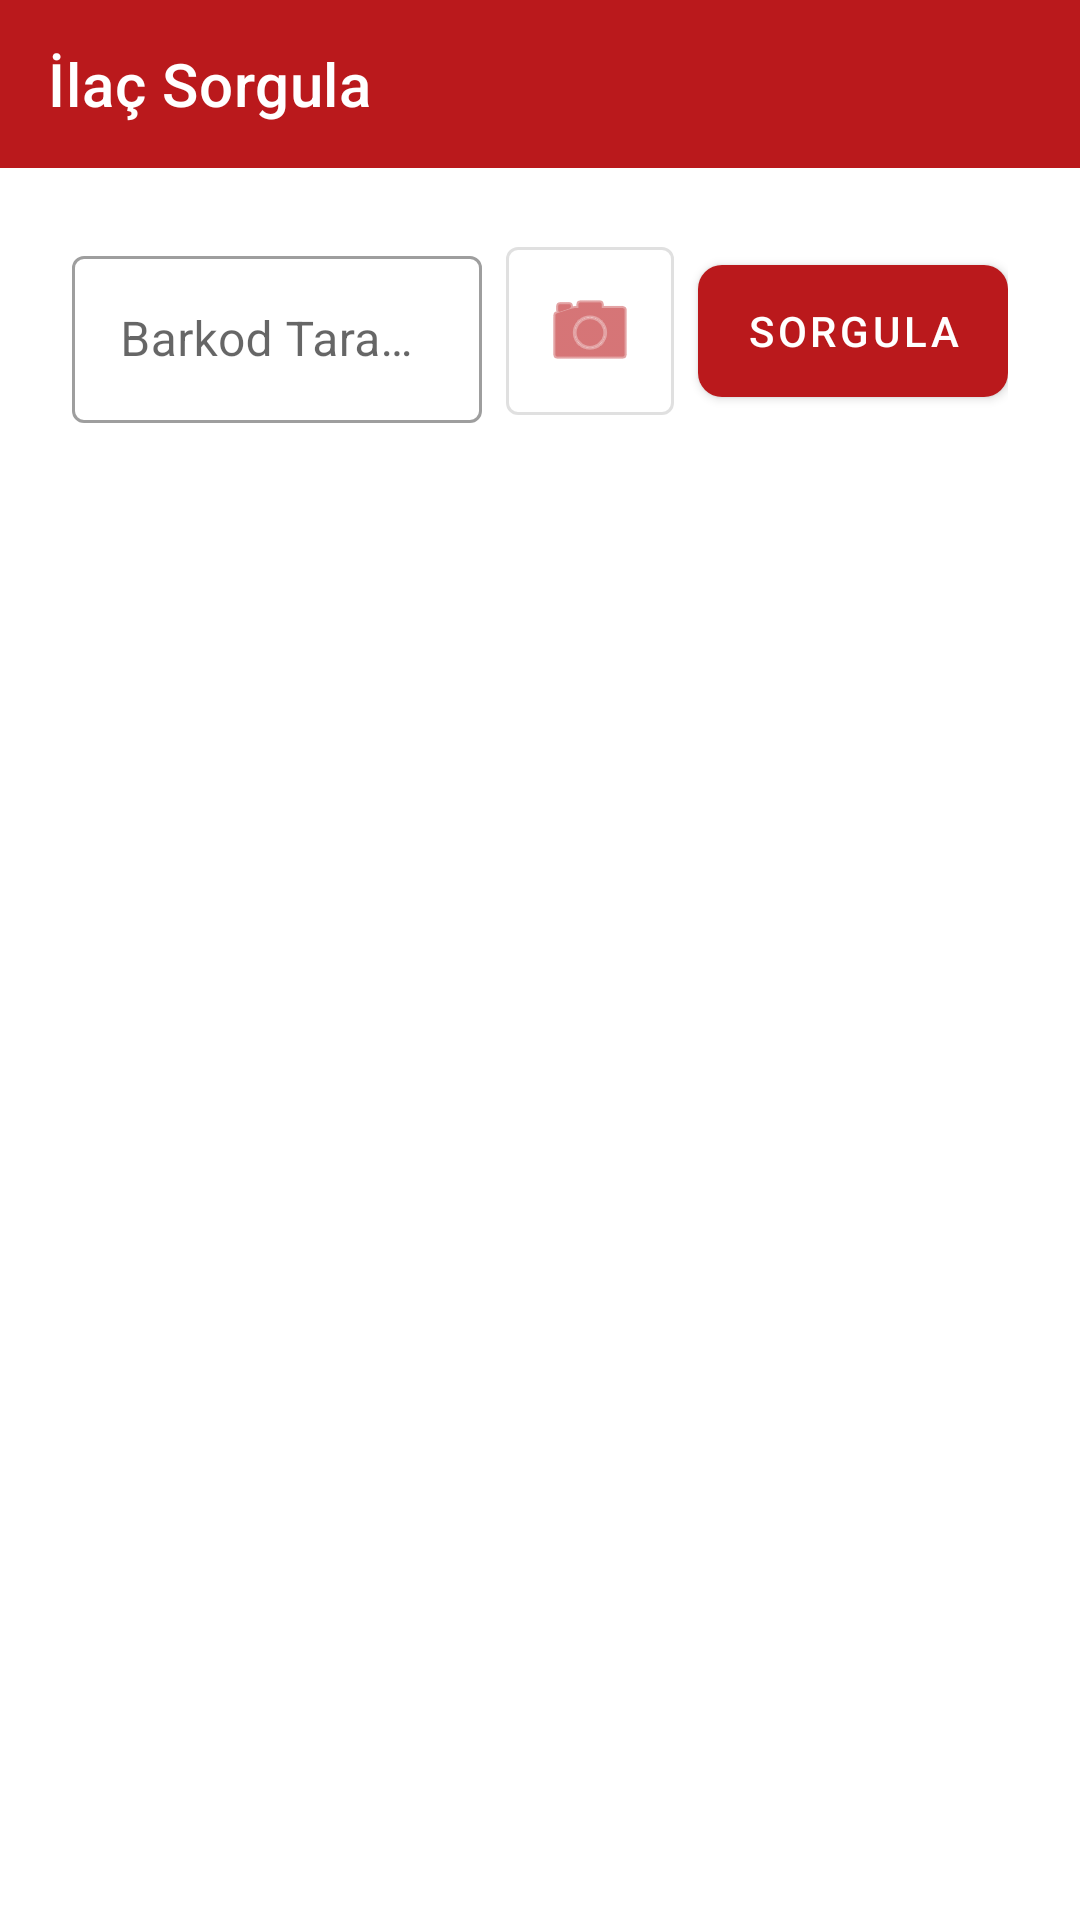

Screen size 1080px×1920px. Icon name, then its box in pixels as {"x1": x1, "y1": y1, "x2": x2, "y2": y2}:
camera: {"x1": 506, "y1": 247, "x2": 674, "y2": 415}
